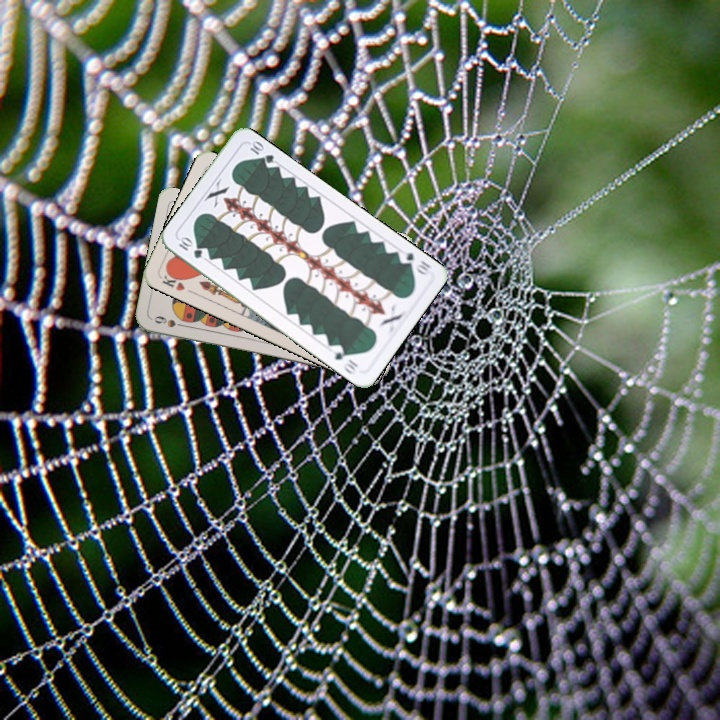G10: (394, 246, 434, 277), (175, 233, 205, 261)
HK: (158, 267, 187, 294)
S9: (150, 312, 189, 330)
